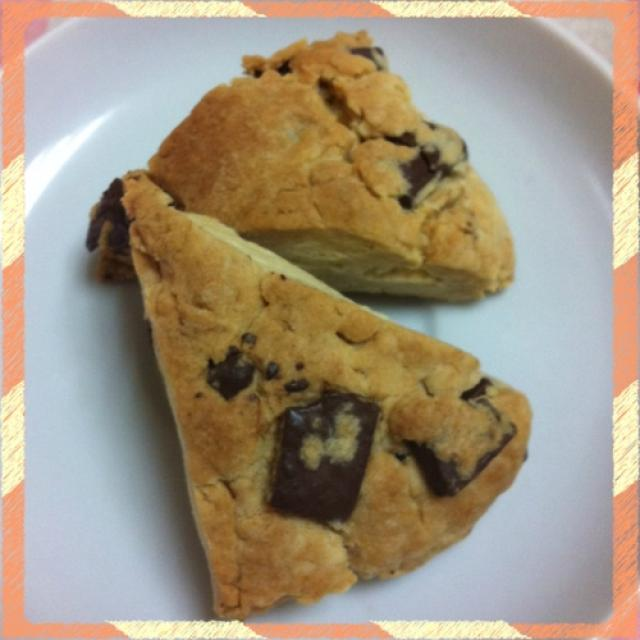面包点心: (26, 23, 609, 613)
